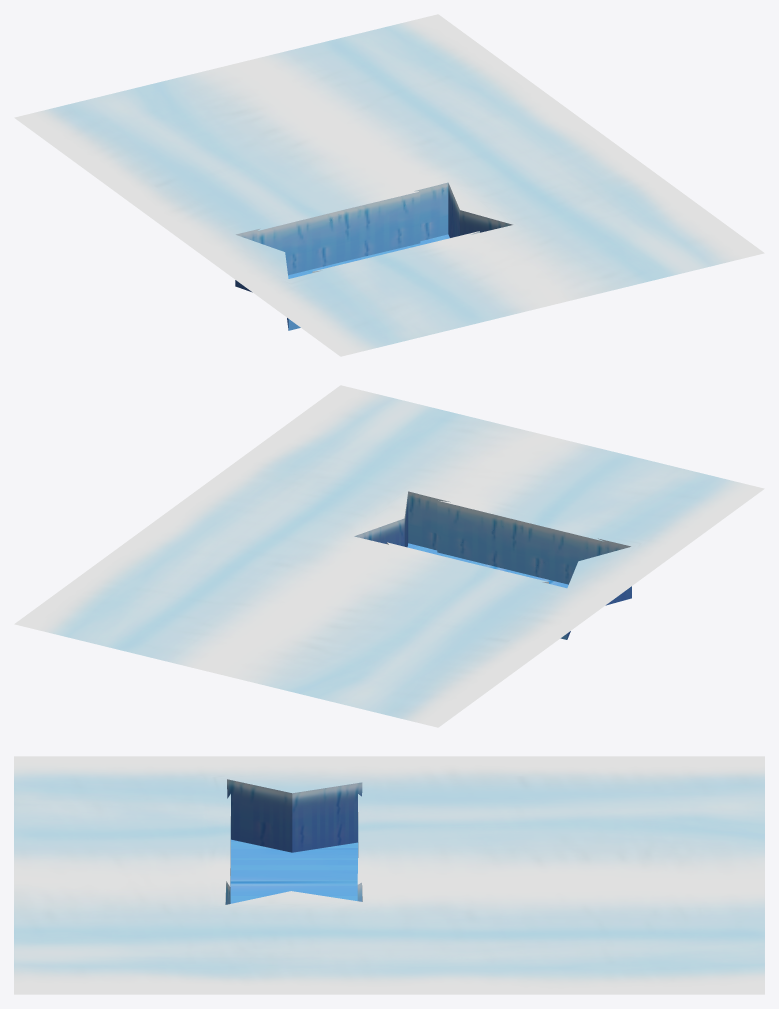
Rendered from Hole_L_Size_07.FBX.
3 renders of one model, top to bottom at view 1: azimuth 30°, elevation 25°; view 2: azimuth 150°, elevation 25°; view 3: azimuth 270°, elevation 25°, orthographic. The views are drawn at different scales.
Visible parts, largest first — view 1: modelRoad074; view 2: modelRoad074; view 3: modelRoad074.
Boxes of the visible parts, x1=… form: modelRoad074: x1=14, y1=14, x2=764, y2=356; modelRoad074: x1=14, y1=385, x2=764, y2=727; modelRoad074: x1=14, y1=756, x2=764, y2=994.
Size of the model in its own units: 600 by 70 by 800.
